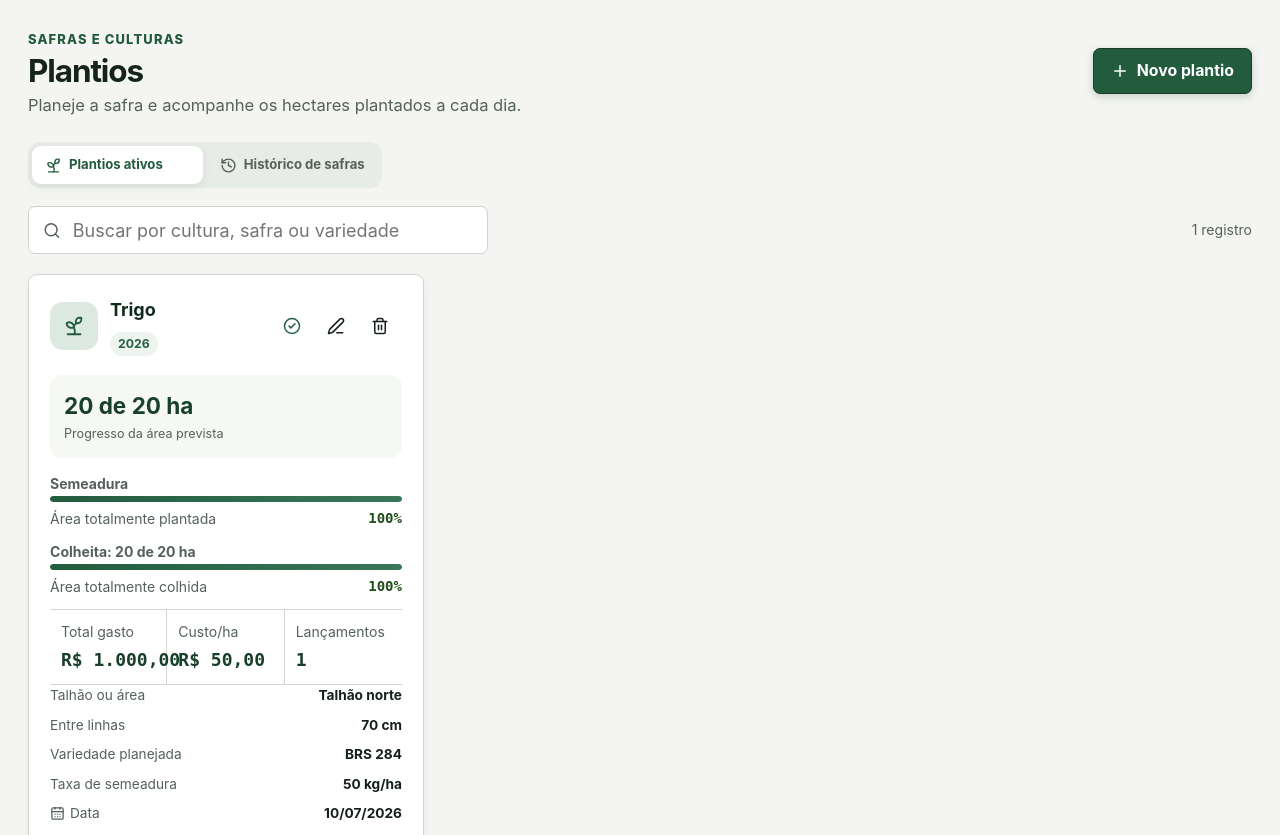
it: PlantingsPage › alterna entre os plantios ativos e o histórico de safras
Expected: the heading "Trigo" is shown, [110, 296, 158, 323]
Expected: the text "50 kg/ha" is shown, [343, 774, 402, 794]
Click the button "Histórico de safras". click: (292, 165)
box: [207, 146, 378, 184]
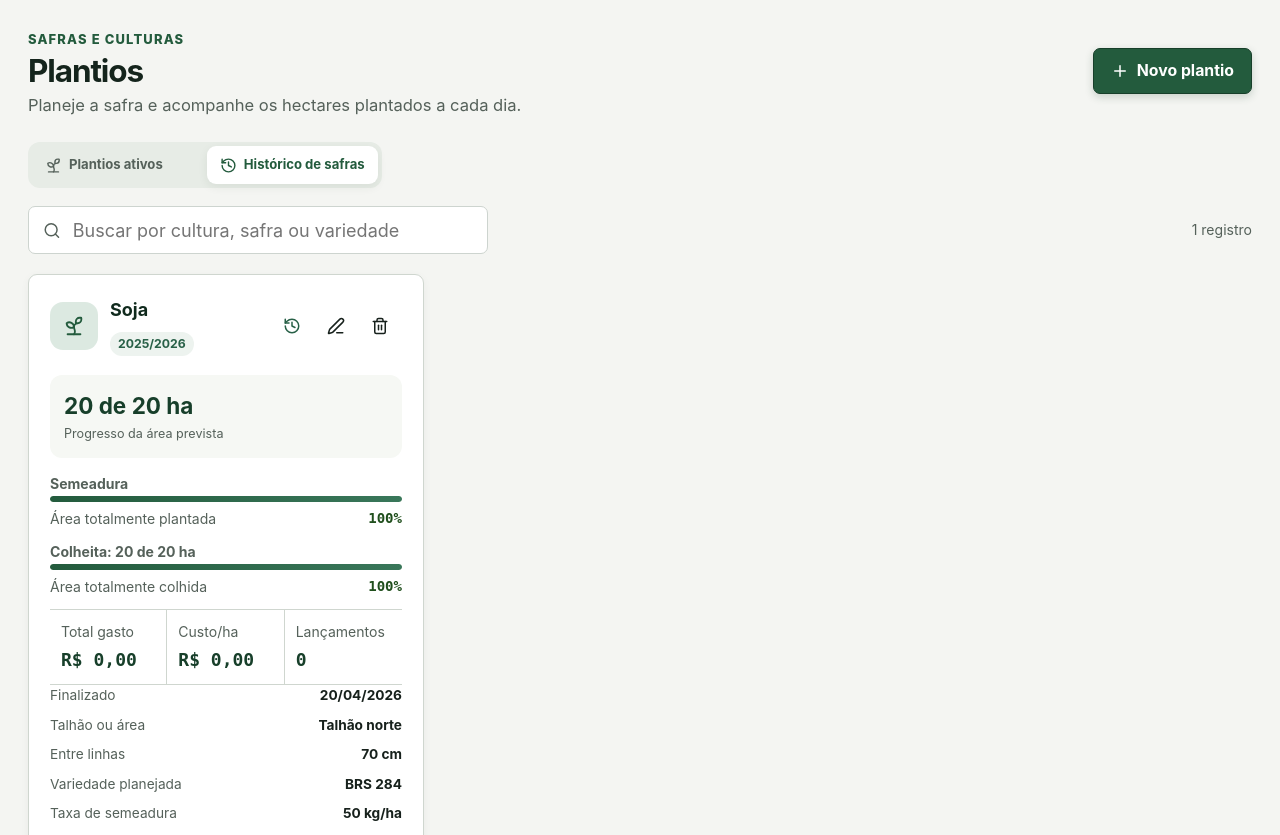
Expected: the heading "Soja" is shown, [110, 299, 148, 320]
Expected: the button named "Reativar plantio" is shown, [270, 304, 314, 348]
